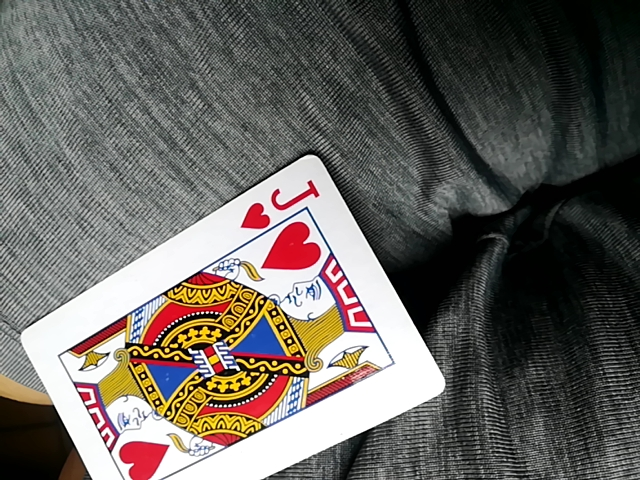hx j: (24, 153, 441, 480)
